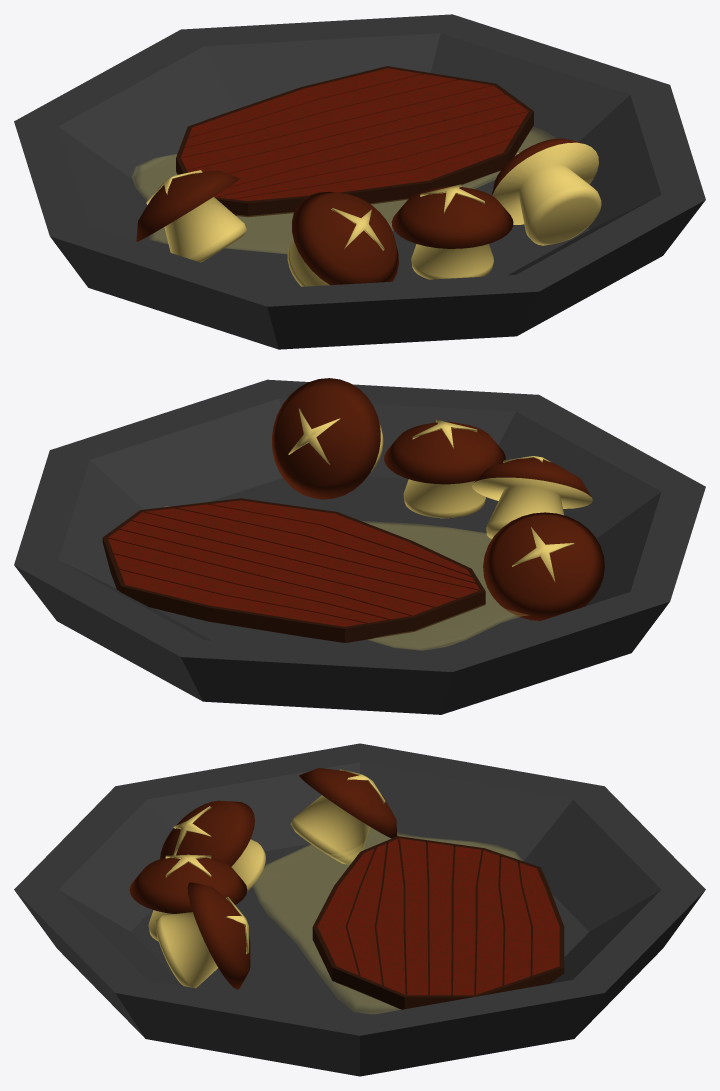
The model's file is steak and mushrooms.fbx.
The picture shows the model from 3 angles, top to bottom: view 1: azimuth 30°, elevation 25°; view 2: azimuth 150°, elevation 25°; view 3: azimuth 270°, elevation 25°; orthographic projection. The views are drawn at different scales.
Visible parts, largest first — view 1: plate; view 2: plate; view 3: plate.
Part boxes in pixels (x1=…): plate: x1=14, y1=14, x2=705, y2=349; plate: x1=14, y1=378, x2=705, y2=714; plate: x1=14, y1=743, x2=705, y2=1076.
Size of the model in its own units: 302 by 62.07 by 302.
